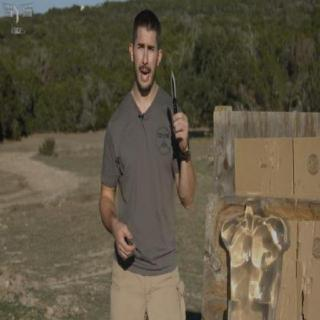knife: (168, 64, 188, 138)
